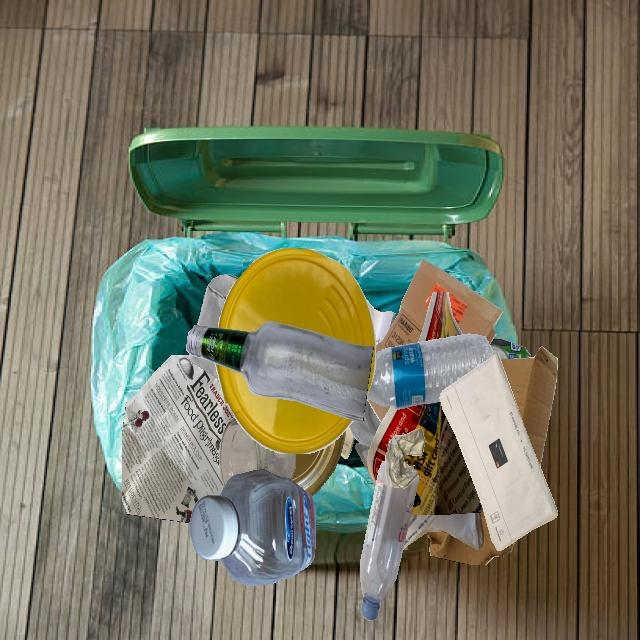cardboard: (376, 259, 502, 354), (500, 346, 557, 467), (425, 512, 514, 565), (490, 338, 531, 359)
glass: (186, 321, 373, 424), (219, 417, 295, 488)
paper: (439, 354, 558, 551), (122, 355, 235, 523), (398, 292, 513, 431), (406, 431, 484, 515), (291, 430, 345, 496), (403, 512, 483, 551), (385, 428, 425, 488), (197, 274, 239, 328), (366, 299, 395, 345), (341, 426, 355, 458)
plastic: (218, 248, 376, 397), (189, 470, 315, 586), (215, 363, 353, 454), (366, 333, 492, 409), (360, 460, 400, 621), (349, 398, 381, 447)
